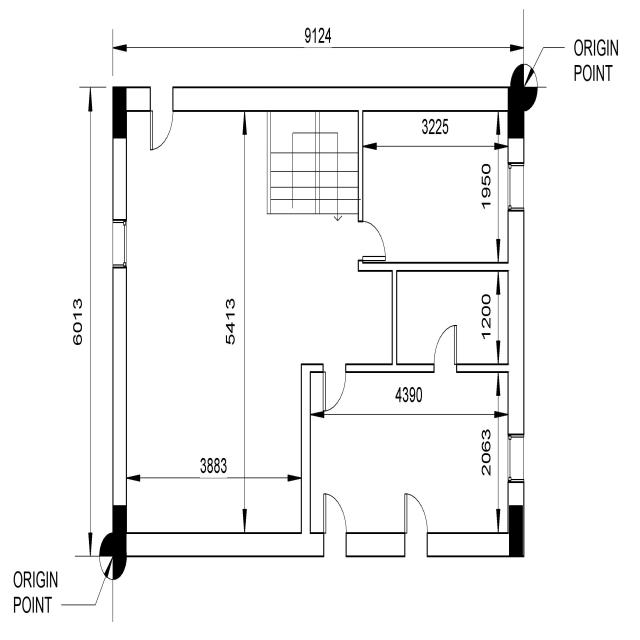Column: (110, 500, 130, 563), (506, 81, 526, 141), (506, 504, 527, 561), (111, 83, 129, 141)
Door: (401, 476, 433, 550), (318, 488, 355, 550), (147, 80, 176, 156), (428, 316, 462, 378), (319, 359, 351, 417), (360, 215, 388, 268)
Staircase: (263, 104, 358, 220)
Window: (505, 428, 527, 488), (505, 159, 527, 215), (111, 217, 129, 275)
